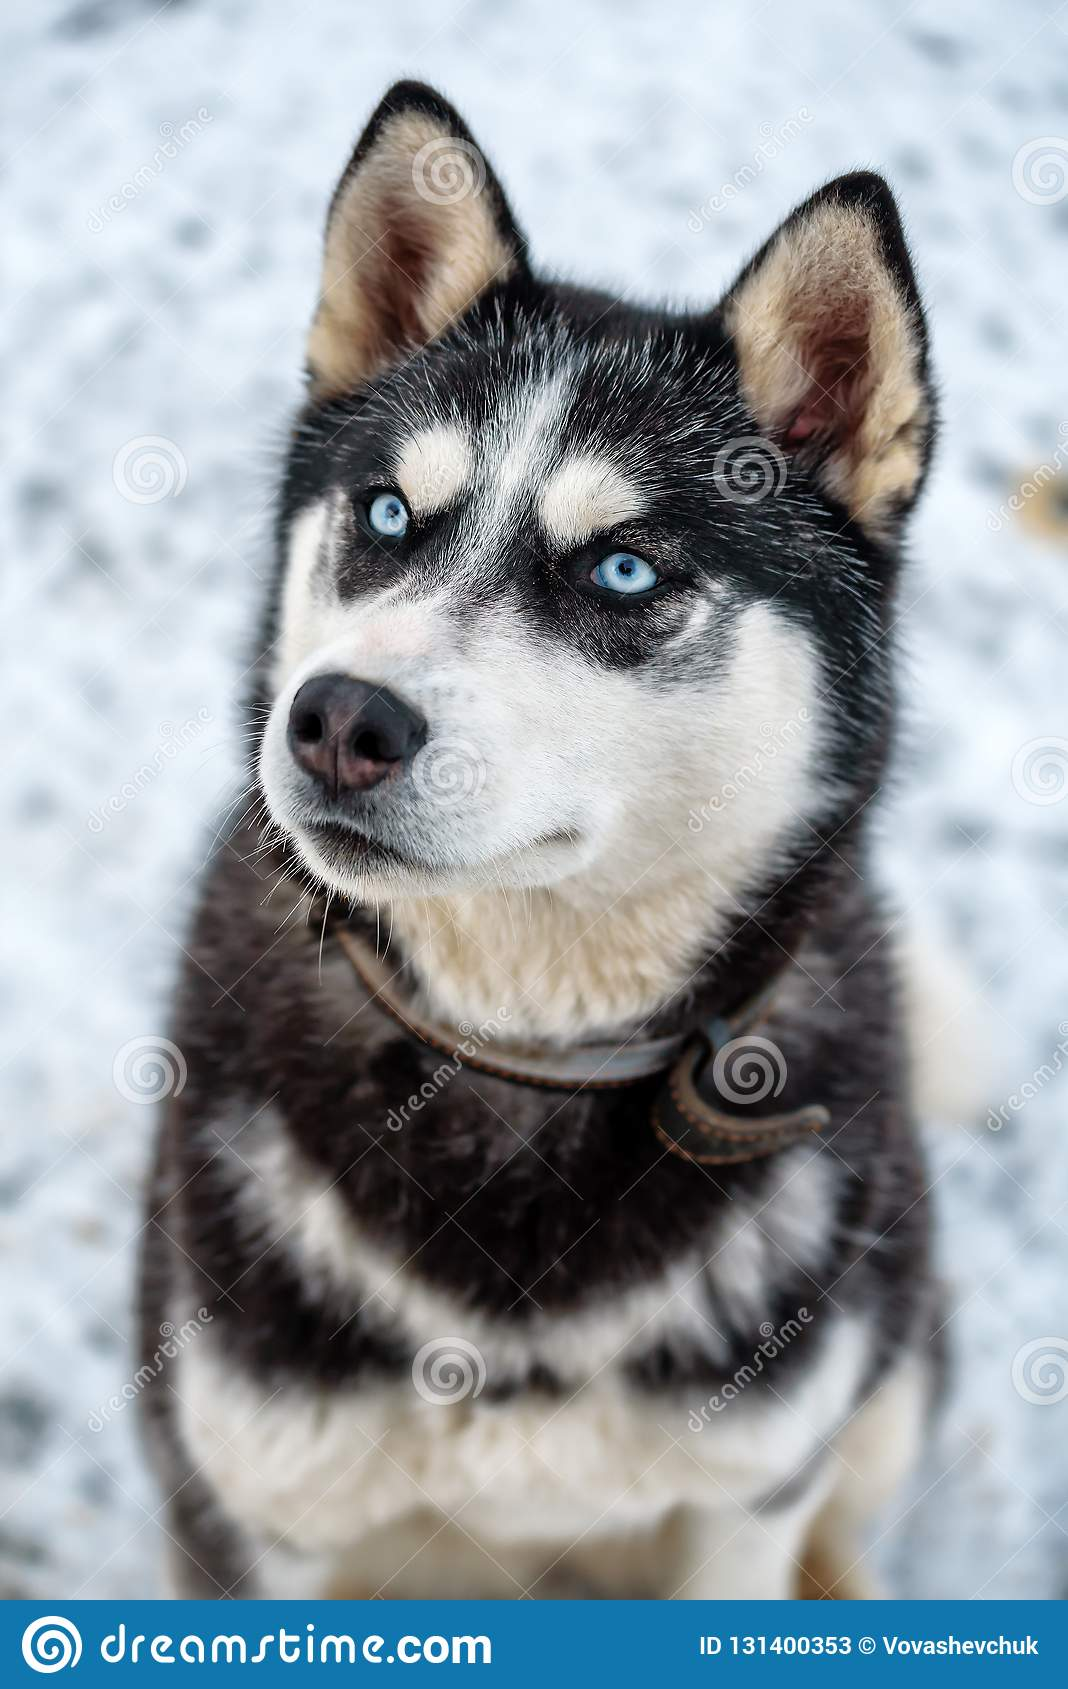husky: (155, 49, 960, 1577)
